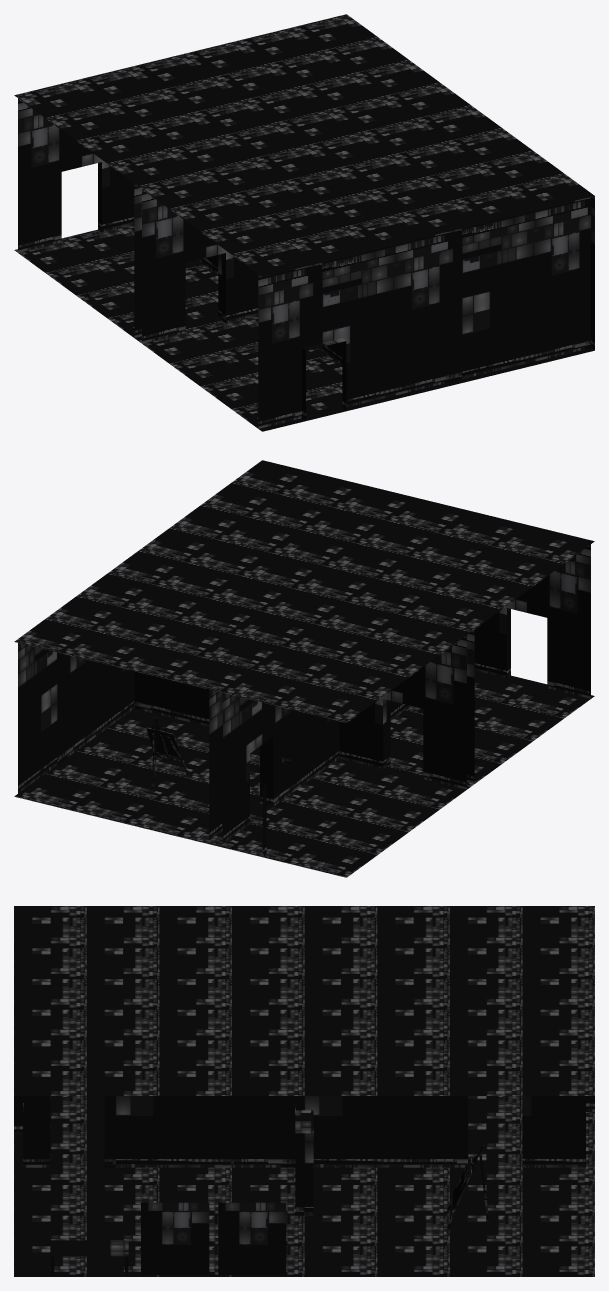
The model's file is room2test1074_opt.obj.
The picture shows the model from 3 angles, top to bottom: view 1: azimuth 30°, elevation 25°; view 2: azimuth 150°, elevation 25°; view 3: azimuth 270°, elevation 25°; orthographic projection. The views are drawn at different scales.
Size of the model in its own units: 1584 by 736 by 2048.
